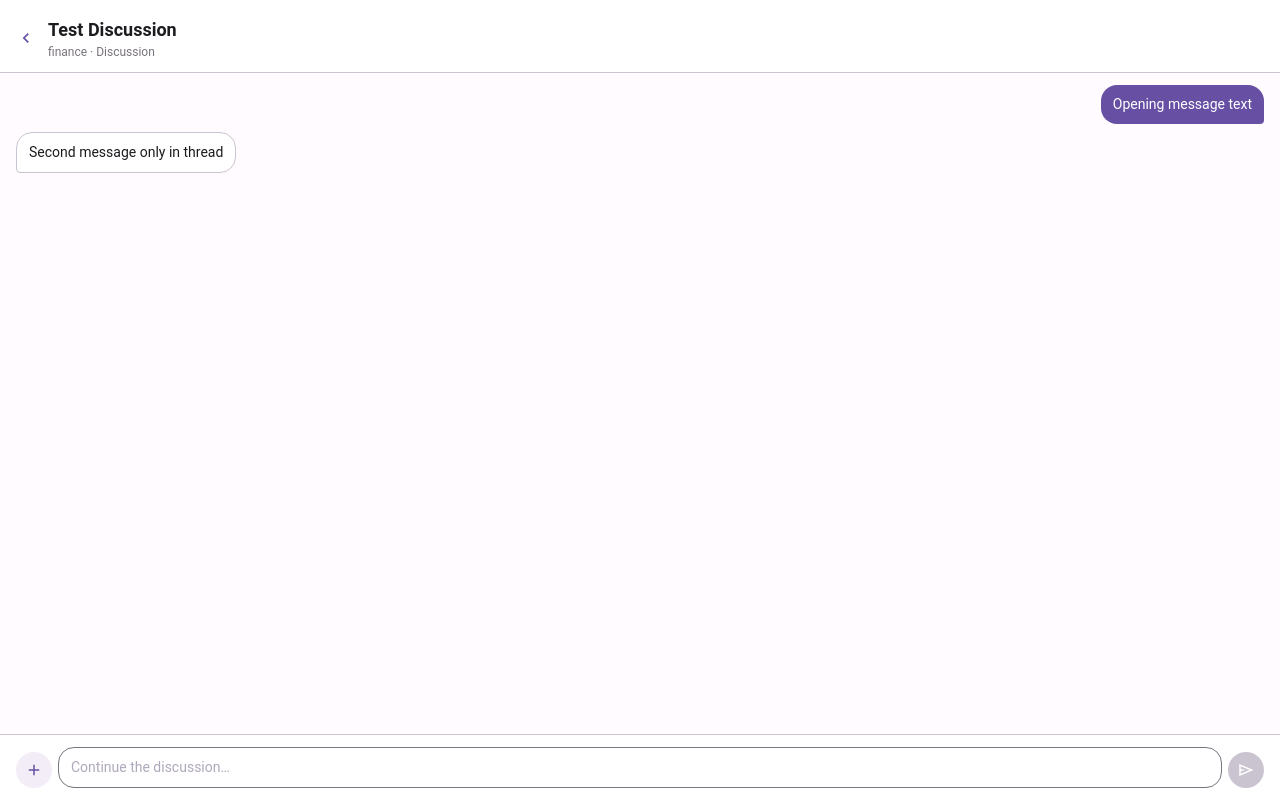
DiscussionThread › VP3: dropdown shows the first message text content when open
Click the button "Test Discussion": [112, 30] box [48,16,1264,44]
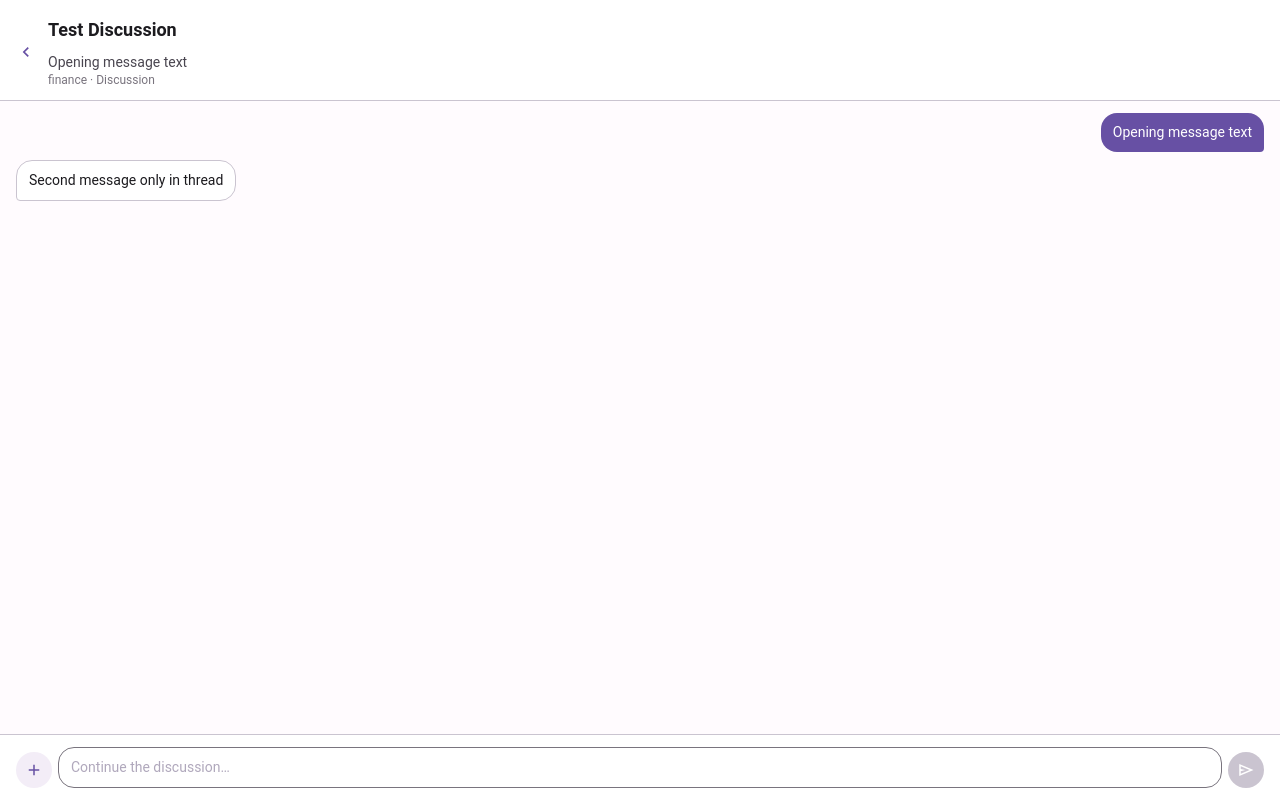
Check: the text with class "line-clamp-4" does not show "Second message only in thread", box [48,54,187,70]
Check: the text with class "line-clamp-4" reads "Opening message text", box [48,54,187,70]
